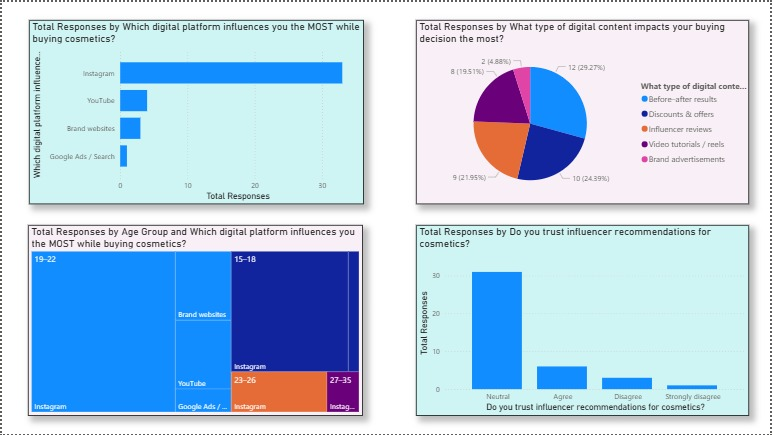

The dashboard page shown, as its layout file describes it:
{"tool":"powerbi","page":{"name":"Page 1","canvas":[1280,720],"ordinal":0},"visuals":[{"type":"clusteredBarChart","fields":{"Category":["Form responses 1.Which digital platform influences you the MOST while buying cosmetics?  "],"Y":["Form responses 1.Total Responses"]},"box":[45.4,29.3,557.6,307.3],"z":0},{"type":"pieChart","fields":{"Category":["Form responses 1.What type of digital content impacts your buying decision the most?"],"Y":["Form responses 1.Total Responses"]},"box":[690.7,29.3,554.6,307.3],"z":1000},{"type":"columnChart","fields":{"Category":["Form responses 1.Do you trust influencer recommendations for cosmetics?  "],"Y":["Form responses 1.Total Responses"]},"box":[690.7,371.7,554.6,317.6],"z":2000},{"type":"treemap","fields":{"Group":["Form responses 1.Age Group "],"Details":["Form responses 1.Which digital platform influences you the MOST while buying cosmetics?  "],"Values":["Form responses 1.Total Responses"]},"box":[43.9,371.7,557.6,317.6],"z":3000}]}

Visuals, with their boxes in screenshot pixels (x1, y1, x2, y2), scaled from the page's 1280x720 canvas onto the 774x435 screenshot:
clusteredBarChart - Form responses 1.Which digital platform influences you the MOST while buying cosmetics?   x Form responses 1.Total Responses: <region>27, 18, 365, 203</region>
pieChart - Form responses 1.What type of digital content impacts your buying decision the most? x Form responses 1.Total Responses: <region>418, 18, 753, 203</region>
columnChart - Form responses 1.Do you trust influencer recommendations for cosmetics?   x Form responses 1.Total Responses: <region>418, 225, 753, 416</region>
treemap - Form responses 1.Age Group  x Form responses 1.Which digital platform influences you the MOST while buying cosmetics?  : <region>27, 225, 364, 416</region>
